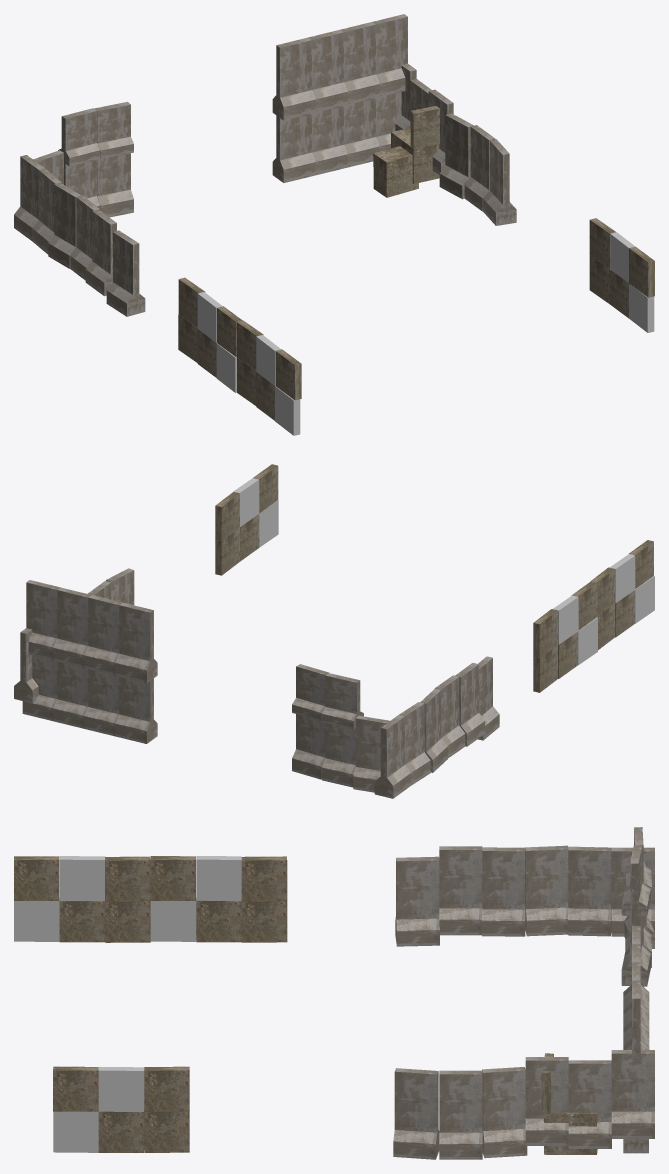
File: muros.fbx
The picture shows the model from 3 angles, top to bottom: view 1: azimuth 30°, elevation 25°; view 2: azimuth 150°, elevation 25°; view 3: azimuth 270°, elevation 25°; orthographic projection. The views are drawn at different scales.
Parts seen in each view (by area): view 1: Cube.046, Cube.045, Cube.044, Cube.036, Cube.018, Cube.043, Cube.027, Cube.035, Cube.032, Cube.034, Cube.029, Cube.047 (+32 smaller); view 2: Cube.046, Cube.045, Cube.044, Cube.036, Cube.043, Cube.023, Cube.034, Cube.035, Cube.030, Cube.031, Cube.047, Cube.032 (+27 smaller); view 3: Cube.029, Cube.018, Cube.028, Cube.020, Cube.027, Cube.022, Cube.019, Cube.021, Cube.024, Cube.025, Cube.026, Cube.010 (+26 smaller).
Part boxes in pixels (left/top/right/bottom): Cube.046: left=272, top=37, right=315, bottom=120; Cube.045: left=308, top=29, right=347, bottom=112; Cube.044: left=341, top=22, right=379, bottom=104; Cube.036: left=272, top=108, right=315, bottom=182; Cube.018: left=106, top=230, right=145, bottom=316; Cube.043: left=372, top=14, right=407, bottom=96; Cube.027: left=439, top=113, right=473, bottom=199; Cube.035: left=312, top=106, right=347, bottom=175; Cube.032: left=97, top=153, right=133, bottom=217; Cube.034: left=344, top=98, right=379, bottom=167; Cube.029: left=483, top=139, right=516, bottom=225; Cube.047: left=58, top=108, right=100, bottom=166; Cube.046: left=115, top=602, right=157, bottom=683; Cube.045: left=84, top=595, right=122, bottom=675; Cube.044: left=53, top=587, right=91, bottom=667; Cube.036: left=115, top=671, right=157, bottom=743; Cube.043: left=26, top=580, right=60, bottom=660; Cube.023: left=374, top=715, right=410, bottom=798; Cube.034: left=53, top=661, right=88, bottom=728; Cube.035: left=84, top=669, right=119, bottom=736; Cube.030: left=353, top=715, right=391, bottom=792; Cube.031: left=322, top=715, right=360, bottom=787; Cube.047: left=322, top=673, right=363, bottom=729; Cube.032: left=292, top=714, right=325, bottom=779; Cube.029: left=393, top=1068, right=439, bottom=1159; Cube.018: left=395, top=856, right=439, bottom=946; Cube.028: left=439, top=1070, right=482, bottom=1159; Cube.020: left=482, top=847, right=525, bottom=936; Cube.027: left=482, top=1067, right=527, bottom=1158; Cube.022: left=568, top=846, right=611, bottom=936; Cube.019: left=439, top=846, right=482, bottom=935; Cube.021: left=525, top=845, right=568, bottom=936; Cube.024: left=611, top=1050, right=654, bottom=1138; Cube.025: left=568, top=1060, right=611, bottom=1148; Cube.026: left=525, top=1057, right=568, bottom=1145; Cube.010: left=241, top=856, right=287, bottom=901.
Size of the model in its own units: 119 by 39.81 by 142.
